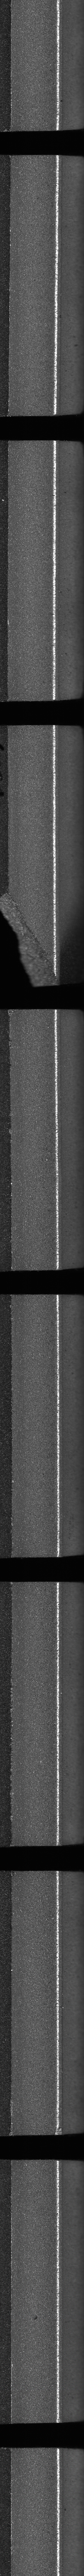Chip: (0, 889, 59, 987)
